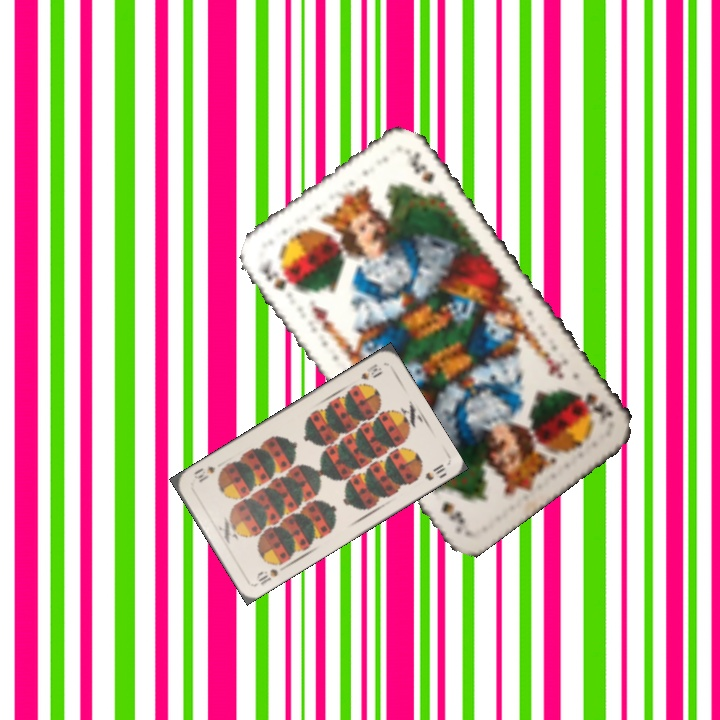S10: (252, 557, 286, 588), (357, 359, 385, 383)
SK: (573, 387, 617, 425), (258, 257, 300, 296)
